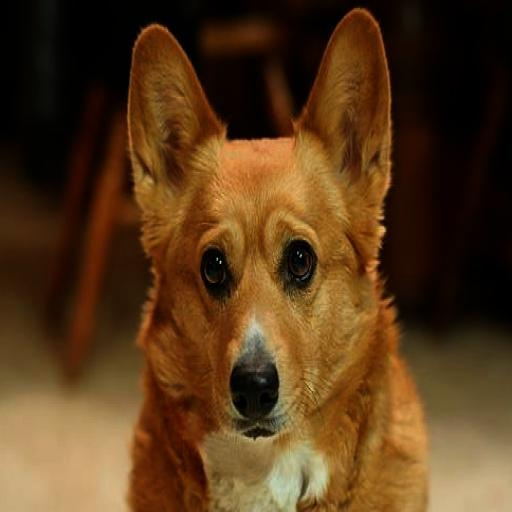dog_face: (135, 26, 390, 444)
